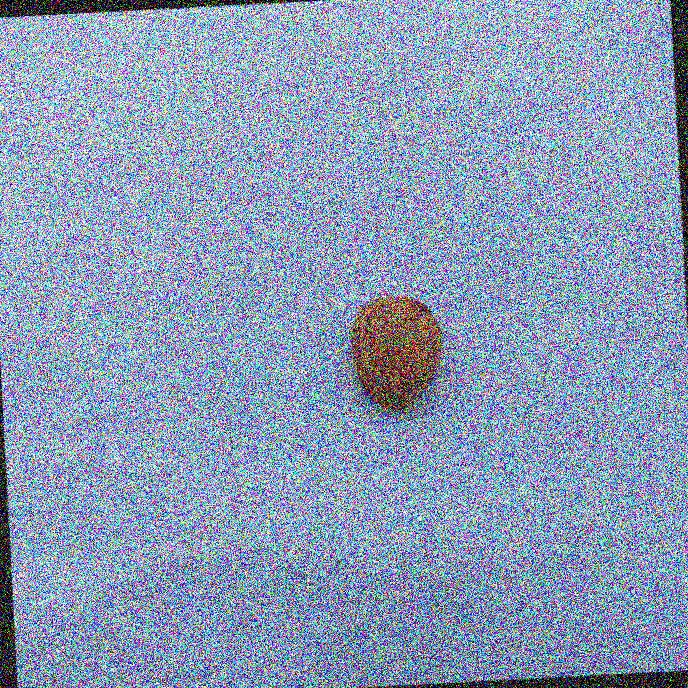grade1: (338, 287, 454, 423)
